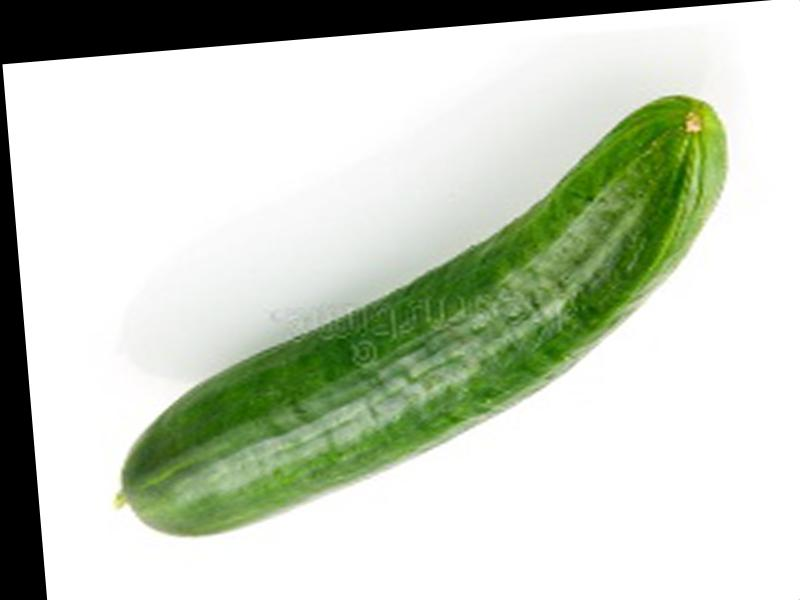Cucumber: (93, 91, 755, 541)
